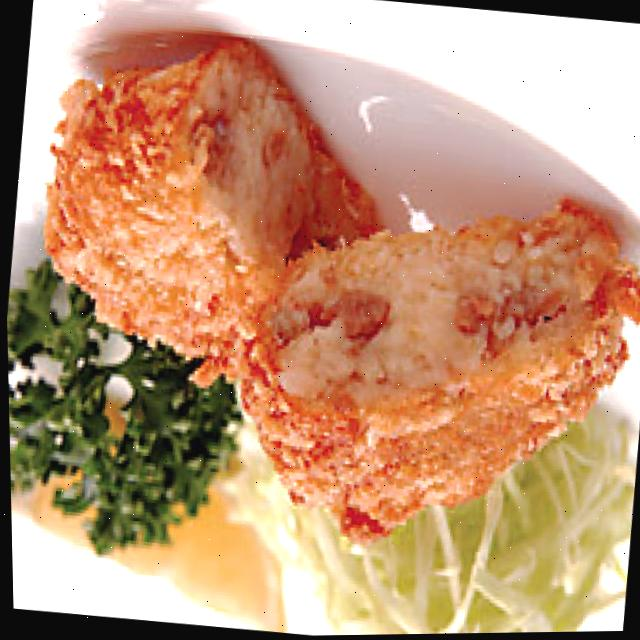炸货点心: (7, 13, 640, 572)
